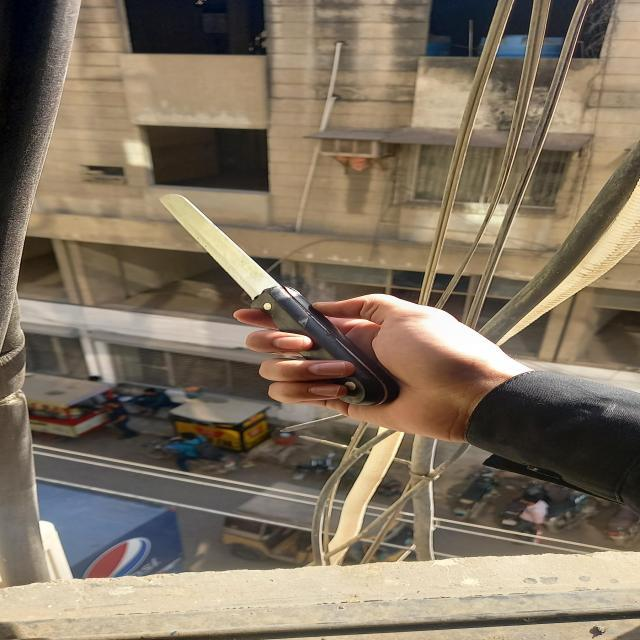faca: (160, 194, 410, 405)
